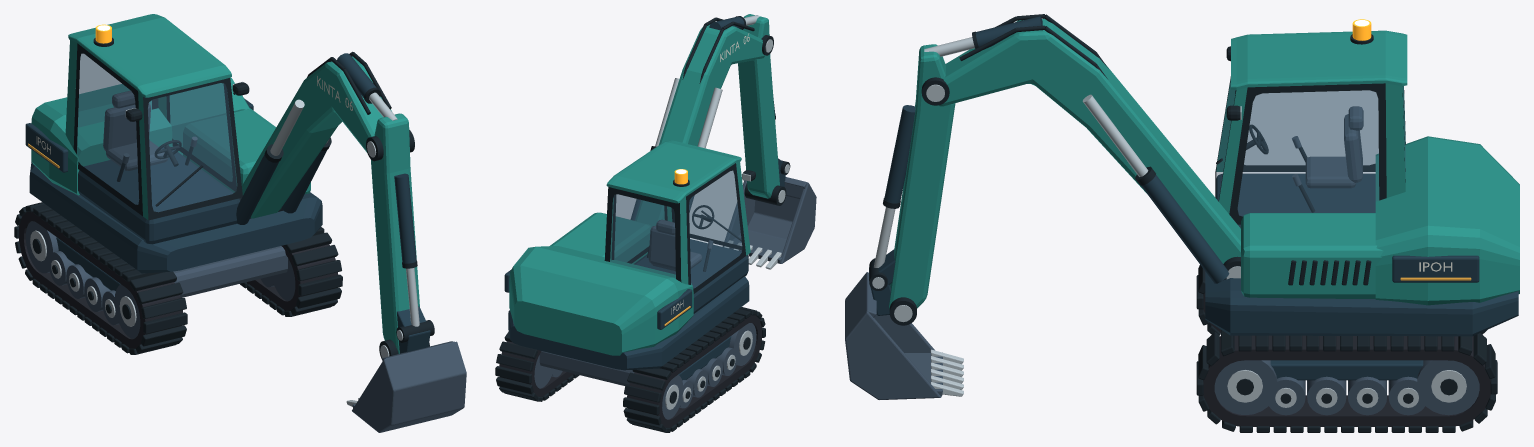
3 renders of one model, left to right at view 1: azimuth 30°, elevation 25°; view 2: azimuth 150°, elevation 25°; view 3: azimuth 270°, elevation 25°, orthographic. The views are drawn at different scales.
Visible parts, largest first — view 1: Ipoh Compact Excavator; view 2: Ipoh Compact Excavator; view 3: Ipoh Compact Excavator.
Part boxes in pixels (bbox=[...]): Ipoh Compact Excavator: bbox=[14, 14, 466, 432]; Ipoh Compact Excavator: bbox=[495, 14, 816, 432]; Ipoh Compact Excavator: bbox=[845, 14, 1519, 432].
Size of the model in its own units: 2.11 by 3.37 by 5.43.
